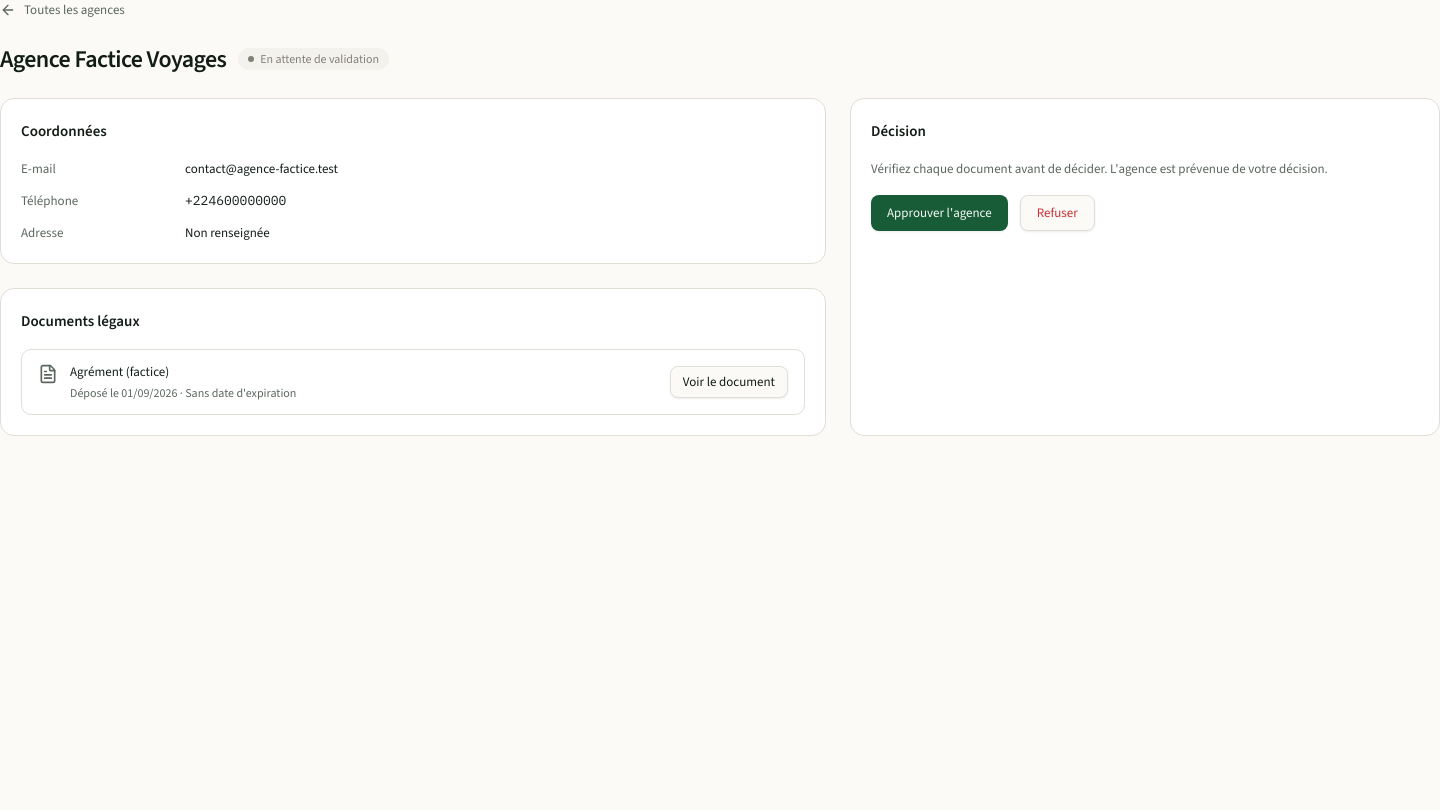
Test: AgencyValidationScreen (ticket #31) › exige un motif d'au moins 3 caractères avant de refuser
The width and height of the screenshot is (1440, 810).
Click the button "Refuser": {"x": 1057, "y": 213} [1020, 195, 1095, 231]
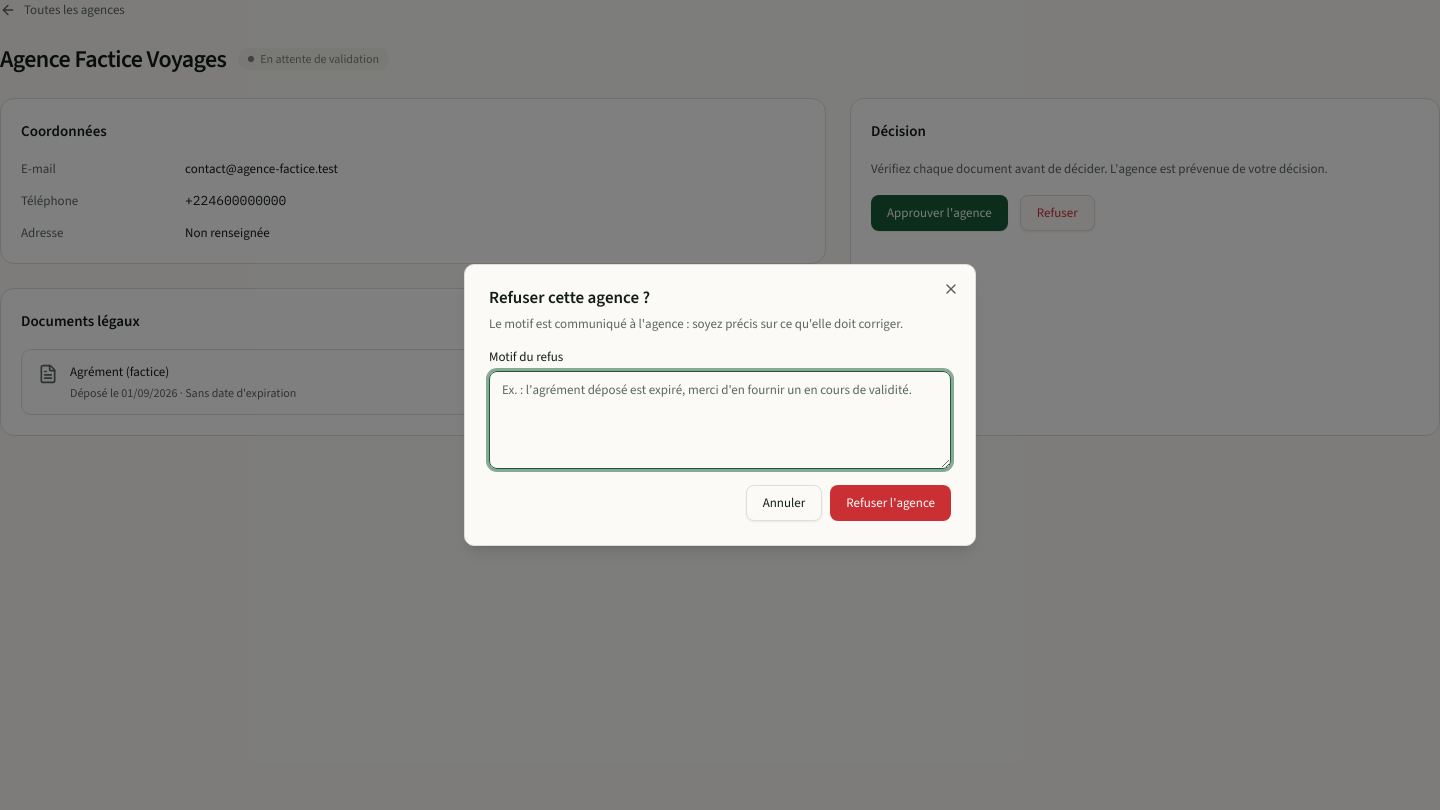
In the text box labelled "Motif du refus": {"x": 720, "y": 420} [489, 371, 951, 469], type "ab"
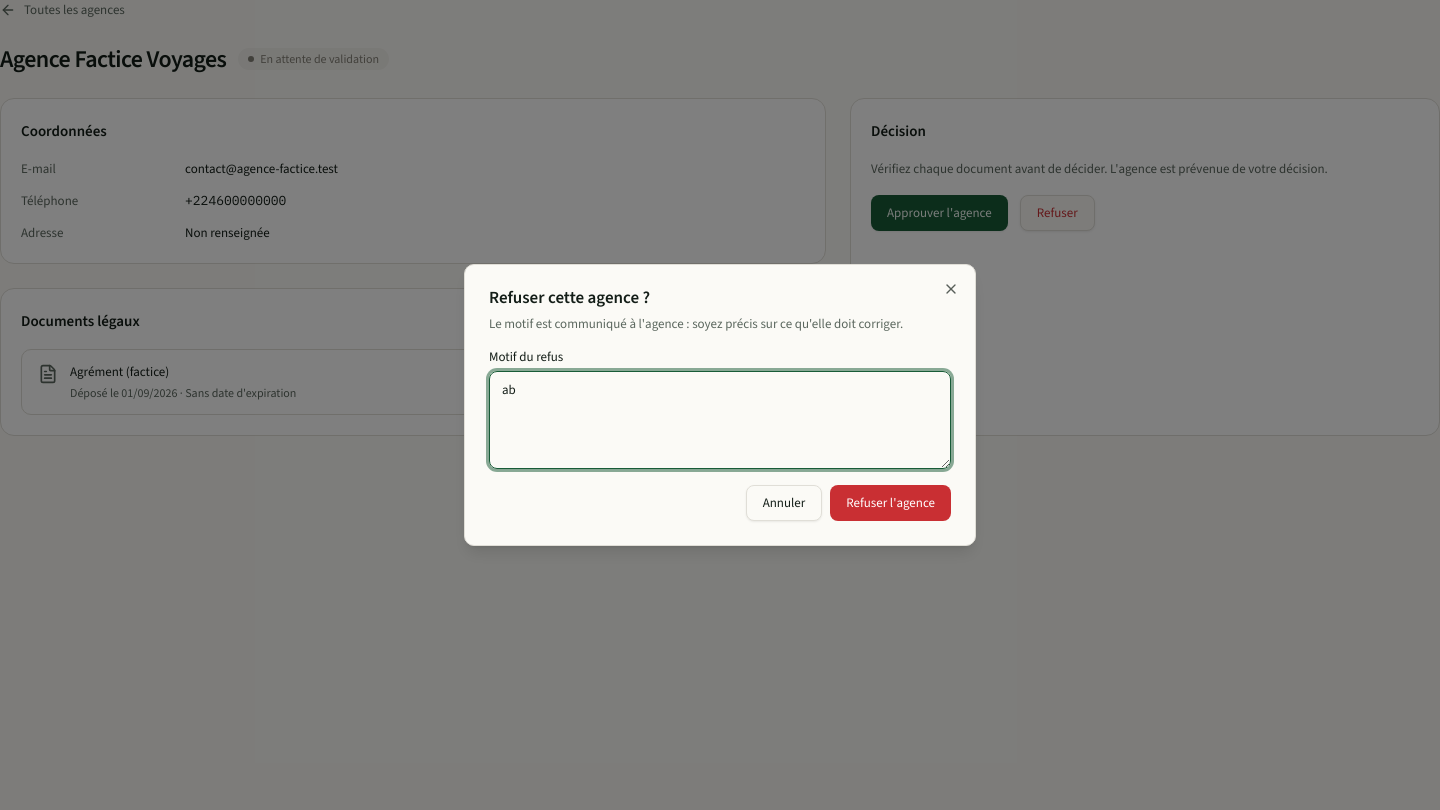
Click the button "Refuser l'agence": {"x": 891, "y": 503} [830, 485, 951, 521]
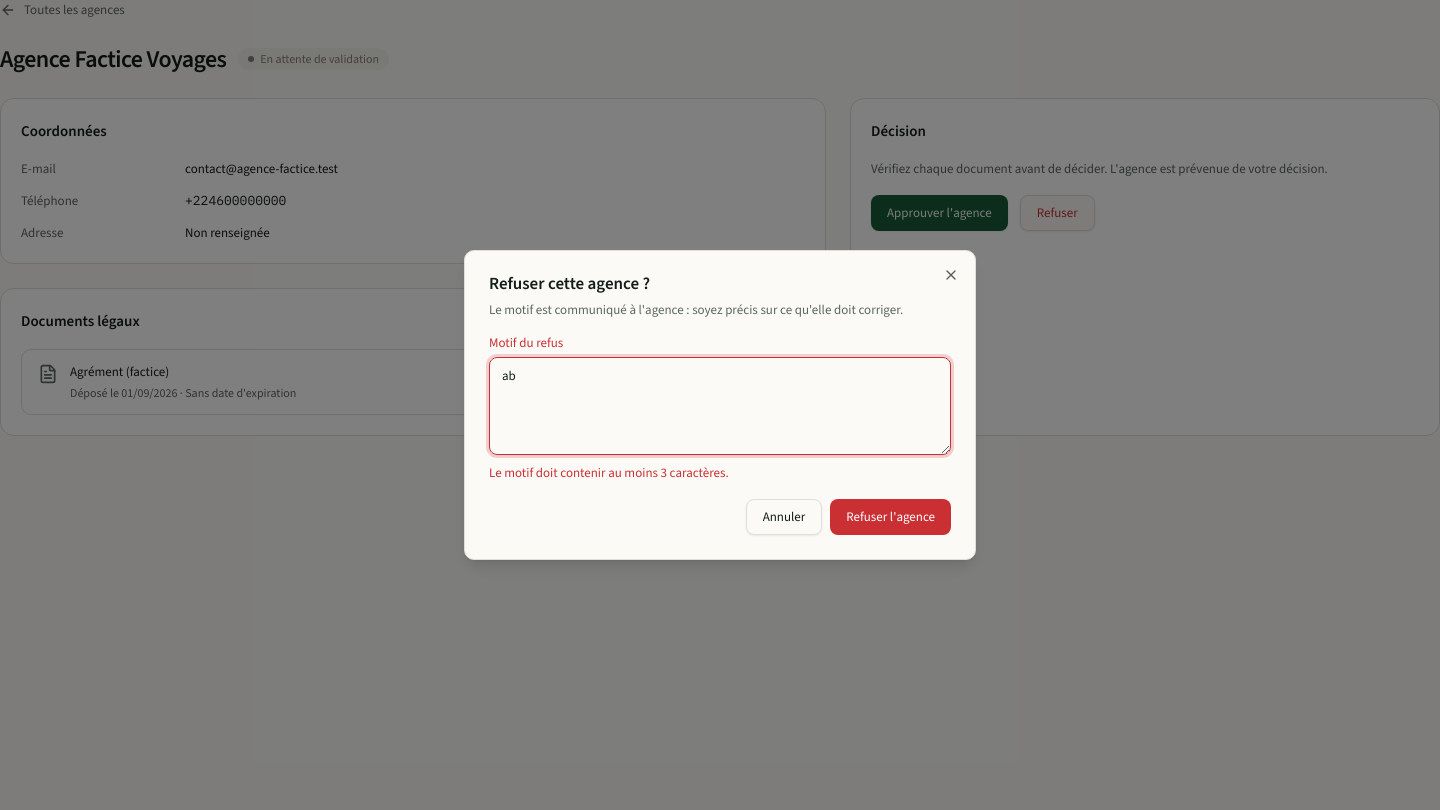
Expected: the text "Le motif doit contenir au moins 3 caractères." is shown, [489, 464, 729, 481]
